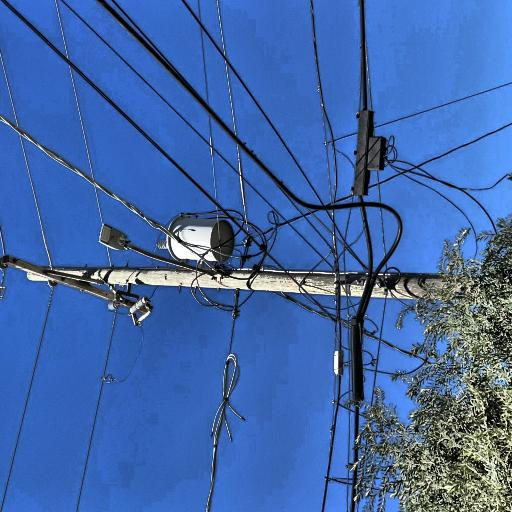pole: (64, 137, 124, 512)
street light: (106, 220, 160, 364)
transformer: (122, 297, 164, 373)
